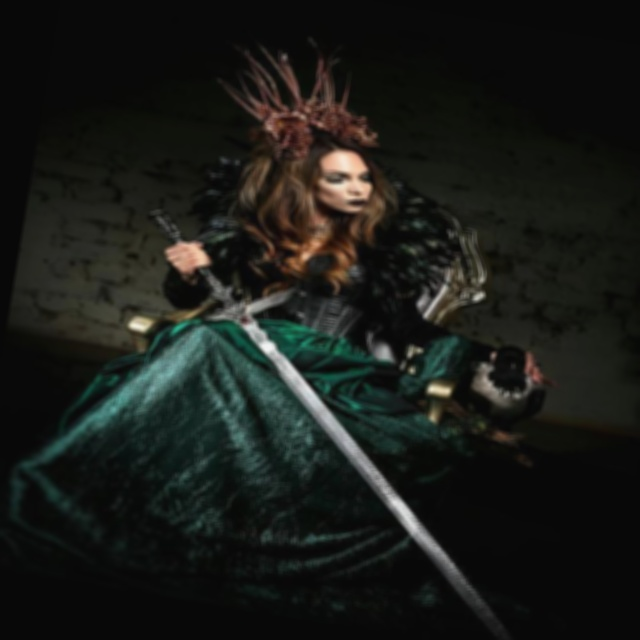Sharp-Object: (140, 228, 593, 640)
